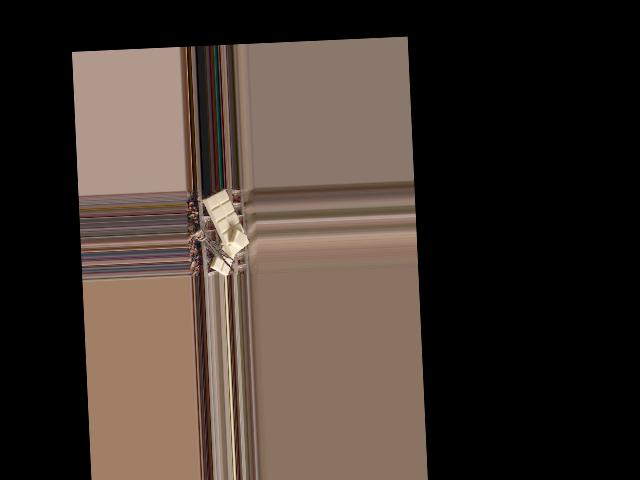chocolate: (203, 189, 249, 258)
